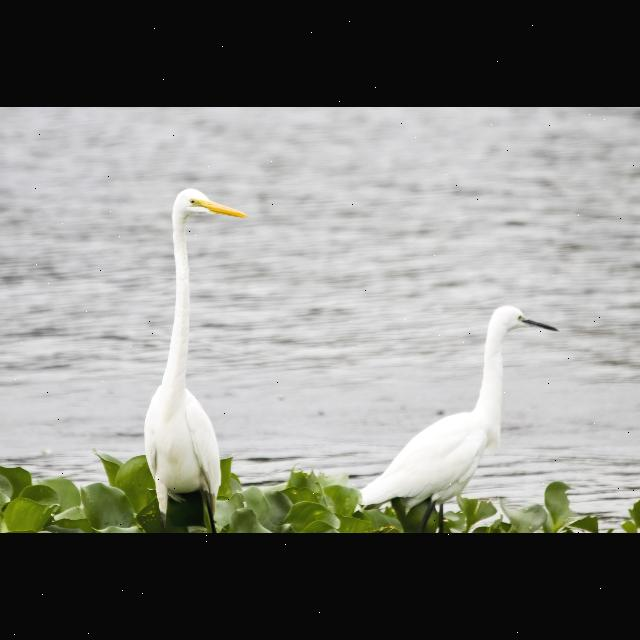egret: (350, 302, 564, 534), (133, 182, 255, 518)
